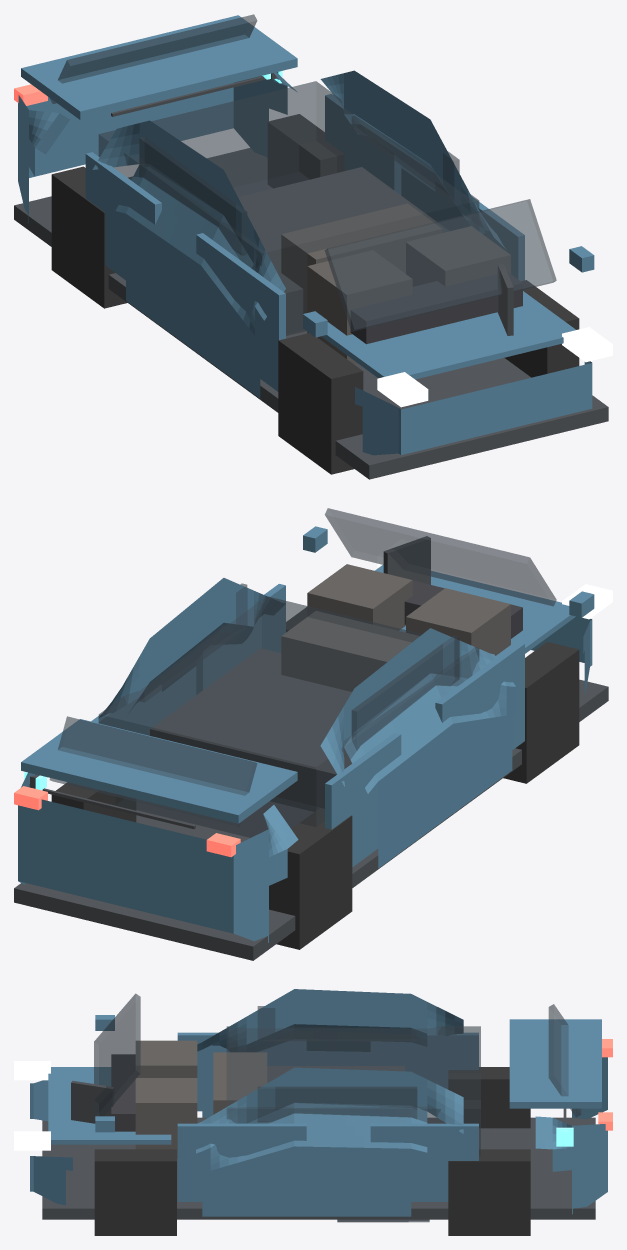
Rendered from compact_sedan_lod.glb.
3 renders of one model, top to bottom at view 1: azimuth 30°, elevation 25°; view 2: azimuth 150°, elevation 25°; view 3: azimuth 270°, elevation 25°, orthographic. The views are drawn at different scales.
Parts seen in each view (by area): view 1: body_mesh, cab_mesh, windshield, trunk_mesh, trim_mesh, frunk_mesh, tire_fr, wheel_well_mesh, seat_rear, tire_rr, dash, seat_r (+14 smaller); view 2: body_mesh, cab_mesh, wheel_well_mesh, trunk_mesh, trim_mesh, windshield, tire_rr, rear_glass, seat_rear, tire_fr, seat_l, door_rr_mesh (+14 smaller); view 3: body_mesh, cab_mesh, trim_mesh, trunk_mesh, tire_fl, tire_rl, window_fixed_l, door_rl_mesh, door_fl_mesh, frunk_mesh, windshield, seat_l (+13 smaller).
Part boxes in pixels (x1,y1,x2,y2): body_mesh: (18,70,592,455); cab_mesh: (98,81,479,333); windshield: (325,199,556,331); trunk_mesh: (21,15,297,119); trim_mesh: (14,148,608,479); frunk_mesh: (321,291,575,379); tire_fr: (278,333,363,474); wheel_well_mesh: (238,167,448,335); seat_rear: (281,203,441,313); tire_rr: (51,166,127,308); dash: (350,272,522,344); seat_r: (307,250,412,364); body_mesh: (18,578,592,942); cab_mesh: (98,596,479,837); wheel_well_mesh: (150,648,351,811); trunk_mesh: (21,719,297,823); trim_mesh: (14,679,608,960); windshield: (325,508,556,606); tire_rr: (269,808,352,949); rear_glass: (49,716,257,826); seat_rear: (281,611,419,691); tire_fr: (503,641,579,783); seat_l: (307,564,412,630); door_rr_mesh: (325,733,401,866); body_mesh: (30,989,607,1216); cab_mesh: (226,1026,480,1155); trim_mesh: (42,1117,595,1219); trunk_mesh: (509,1019,601,1108); tire_fl: (94,1149,176,1235); tire_rl: (448,1149,530,1235); window_fixed_l: (257,1086,417,1122); door_rl_mesh: (370,1123,478,1201); door_fl_mesh: (177,1123,306,1201); frunk_mesh: (48,1067,171,1144); windshield: (94,993,140,1118); seat_l: (135,1078,197,1158).
Size of the model in its own units: 2.04 by 1.73 by 4.87.
